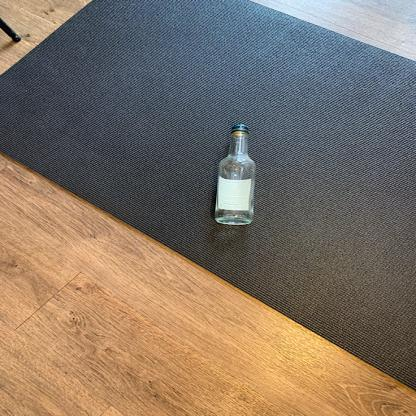trash: (212, 124, 259, 228)
